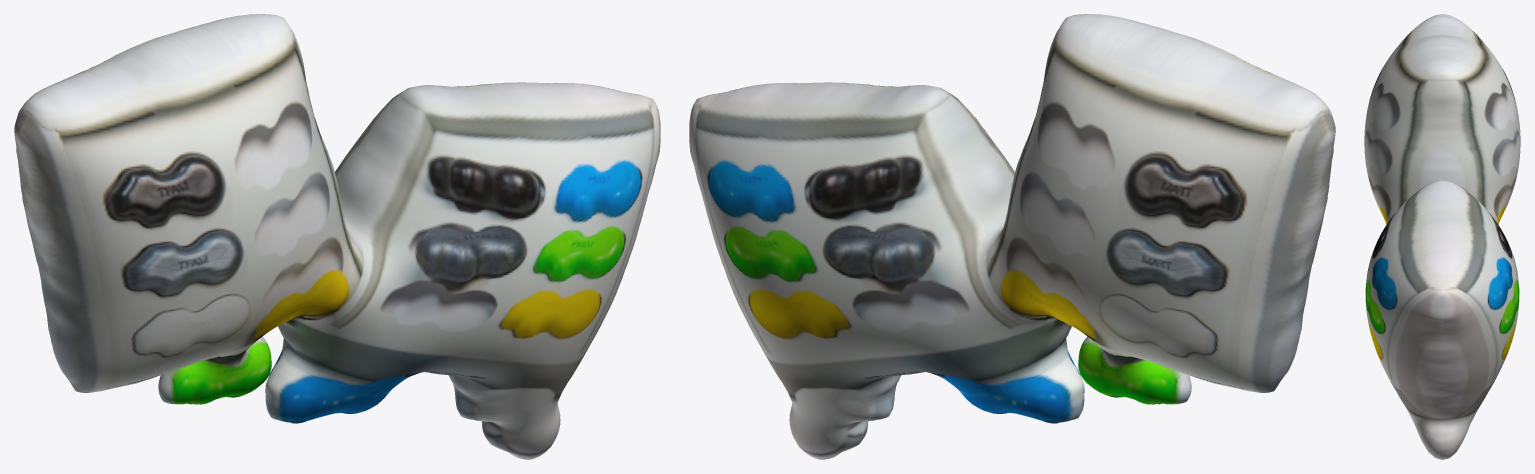
File: colorb.glb
The picture shows the model from 3 angles, left to right: view 1: azimuth 30°, elevation 25°; view 2: azimuth 150°, elevation 25°; view 3: azimuth 270°, elevation 25°; orthographic projection. The views are drawn at different scales.
Visible parts, largest first — view 1: a75e56ee-6689-41b3-9aa9-d89035e989b8; view 2: a75e56ee-6689-41b3-9aa9-d89035e989b8; view 3: a75e56ee-6689-41b3-9aa9-d89035e989b8.
Part boxes in pixels (x1,y1,x2,y2): a75e56ee-6689-41b3-9aa9-d89035e989b8: (14, 14, 660, 459); a75e56ee-6689-41b3-9aa9-d89035e989b8: (689, 14, 1335, 459); a75e56ee-6689-41b3-9aa9-d89035e989b8: (1364, 14, 1520, 459).
Size of the model in its own units: 0.4103 by 0.3117 by 0.1405.
1 material, 1 textured.
